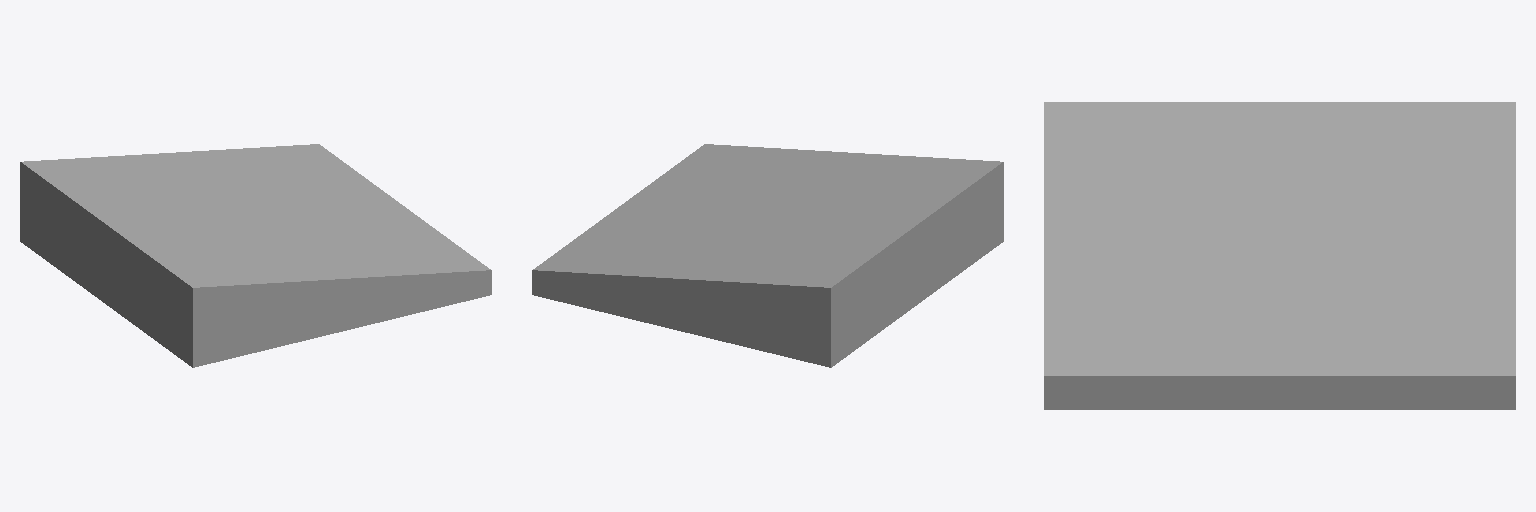
The robot description file, URDF, robot "30x30_small":
<?xml version='1.0' encoding='utf-8'?>
<robot name="30x30_small">
  <link name="base_link">
    <inertial>
      <origin xyz="0.0 0.0 0.0" rpy="0 0 0" />
      <mass value="1" />
      <inertia ixx="0.001" ixy="0" ixz="0" iyy="0.001" iyz="0" izz="0.001" />
    </inertial>
    <visual>
      <origin xyz="0 0 0" rpy="0 0 0" />
      <geometry>
        <mesh filename="package://30x30_small/meshes/30x30_small.stl" scale="1 1 1" />
      </geometry>
      <material name="grey">
        <color rgba="0.7 0.7 0.7 1.0" />
      </material>
    </visual>
    <collision>
      <origin xyz="0 0 0" rpy="0 0 0" />
      <geometry>
        <mesh filename="package://30x30_small/meshes/30x30_small.stl" scale="1 1 1" />
      </geometry>
    </collision>
  </link>
</robot>

--- What the picture shows (computed from the rendered views, not written in the file) ---
The picture shows the robot from 3 angles, left to right: view 1: azimuth 30°, elevation 25°; view 2: azimuth 150°, elevation 25°; view 3: azimuth 270°, elevation 25°; orthographic projection.
Model 30x30_small with 1 links and 0 joints (none), rooted at base_link, posed all joints at 0.
Visible links, largest first — view 1: base_link; view 2: base_link; view 3: base_link.
Boxes of the visible links, bbox=[...] form: base_link: bbox=[20, 144, 491, 367]; base_link: bbox=[532, 144, 1003, 367]; base_link: bbox=[1044, 102, 1515, 409].
Size in the robot's own frame: 0.3 by 0.3 by 0.0769 metres.
Meshes: 1 distinct files referenced, 1 mesh visuals loaded (1 binary STL).